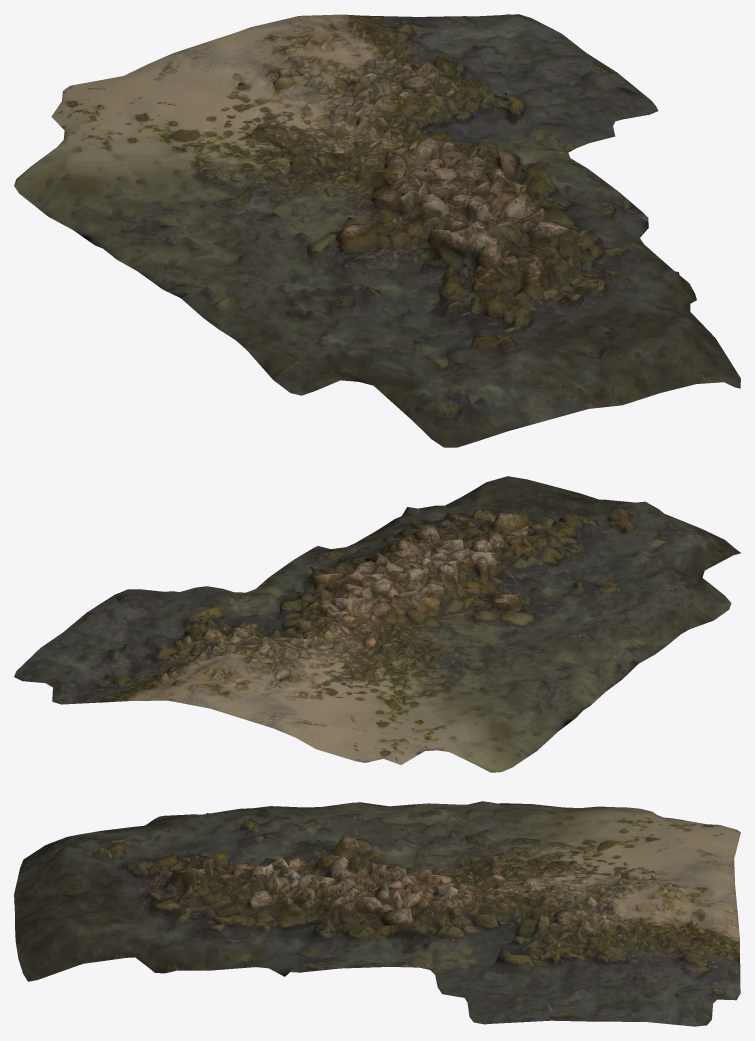
Rendered from coast_rocks_03.glb.
3 views of the same model, one above another, from view 1: azimuth 30°, elevation 25°; view 2: azimuth 150°, elevation 25°; view 3: azimuth 270°, elevation 25° (orthographic). The views are drawn at different scales.
Parts seen in each view (by area): view 1: coast_rocks_03_LOD3; view 2: coast_rocks_03_LOD3; view 3: coast_rocks_03_LOD3.
Part boxes in pixels (x1=…): coast_rocks_03_LOD3: x1=14, y1=14, x2=740, y2=447; coast_rocks_03_LOD3: x1=14, y1=476, x2=740, y2=772; coast_rocks_03_LOD3: x1=14, y1=801, x2=740, y2=1026.
Bounding box in the file's own units: 21.13 × 3.19 × 28.32.
Materials: 1 (1 with a texture image).
